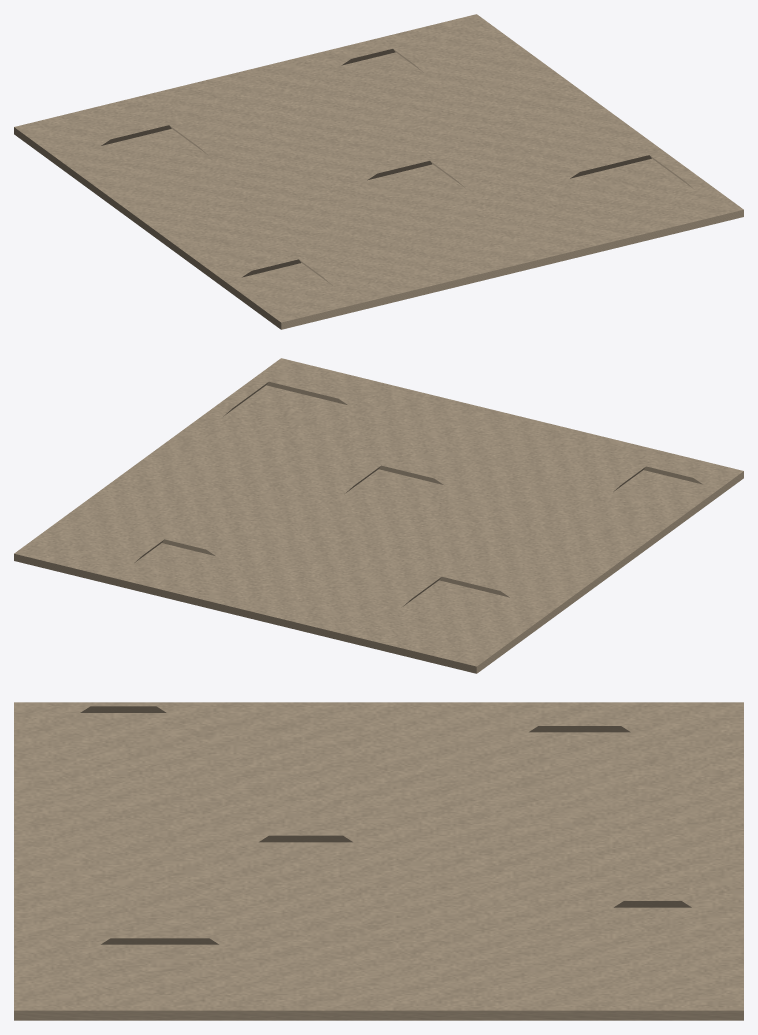
File: dog-agility-and-training-field-worn-grass-ground-tile-2d5a7617__35594.glb
3 views of the same model, one above another, from view 1: azimuth 30°, elevation 25°; view 2: azimuth 150°, elevation 25°; view 3: azimuth 270°, elevation 25° (orthographic). The views are drawn at different scales.
Parts seen in each view (by area): view 1: worn-grass-ground-tile-grass; view 2: worn-grass-ground-tile-grass; view 3: worn-grass-ground-tile-grass.
Part boxes in pixels (x1=…): worn-grass-ground-tile-grass: x1=14, y1=14, x2=743, y2=329; worn-grass-ground-tile-grass: x1=14, y1=358, x2=743, y2=673; worn-grass-ground-tile-grass: x1=14, y1=702, x2=743, y2=1020.
Size of the model in its own units: 4 by 0.126 by 4.
1 material, 1 textured.
